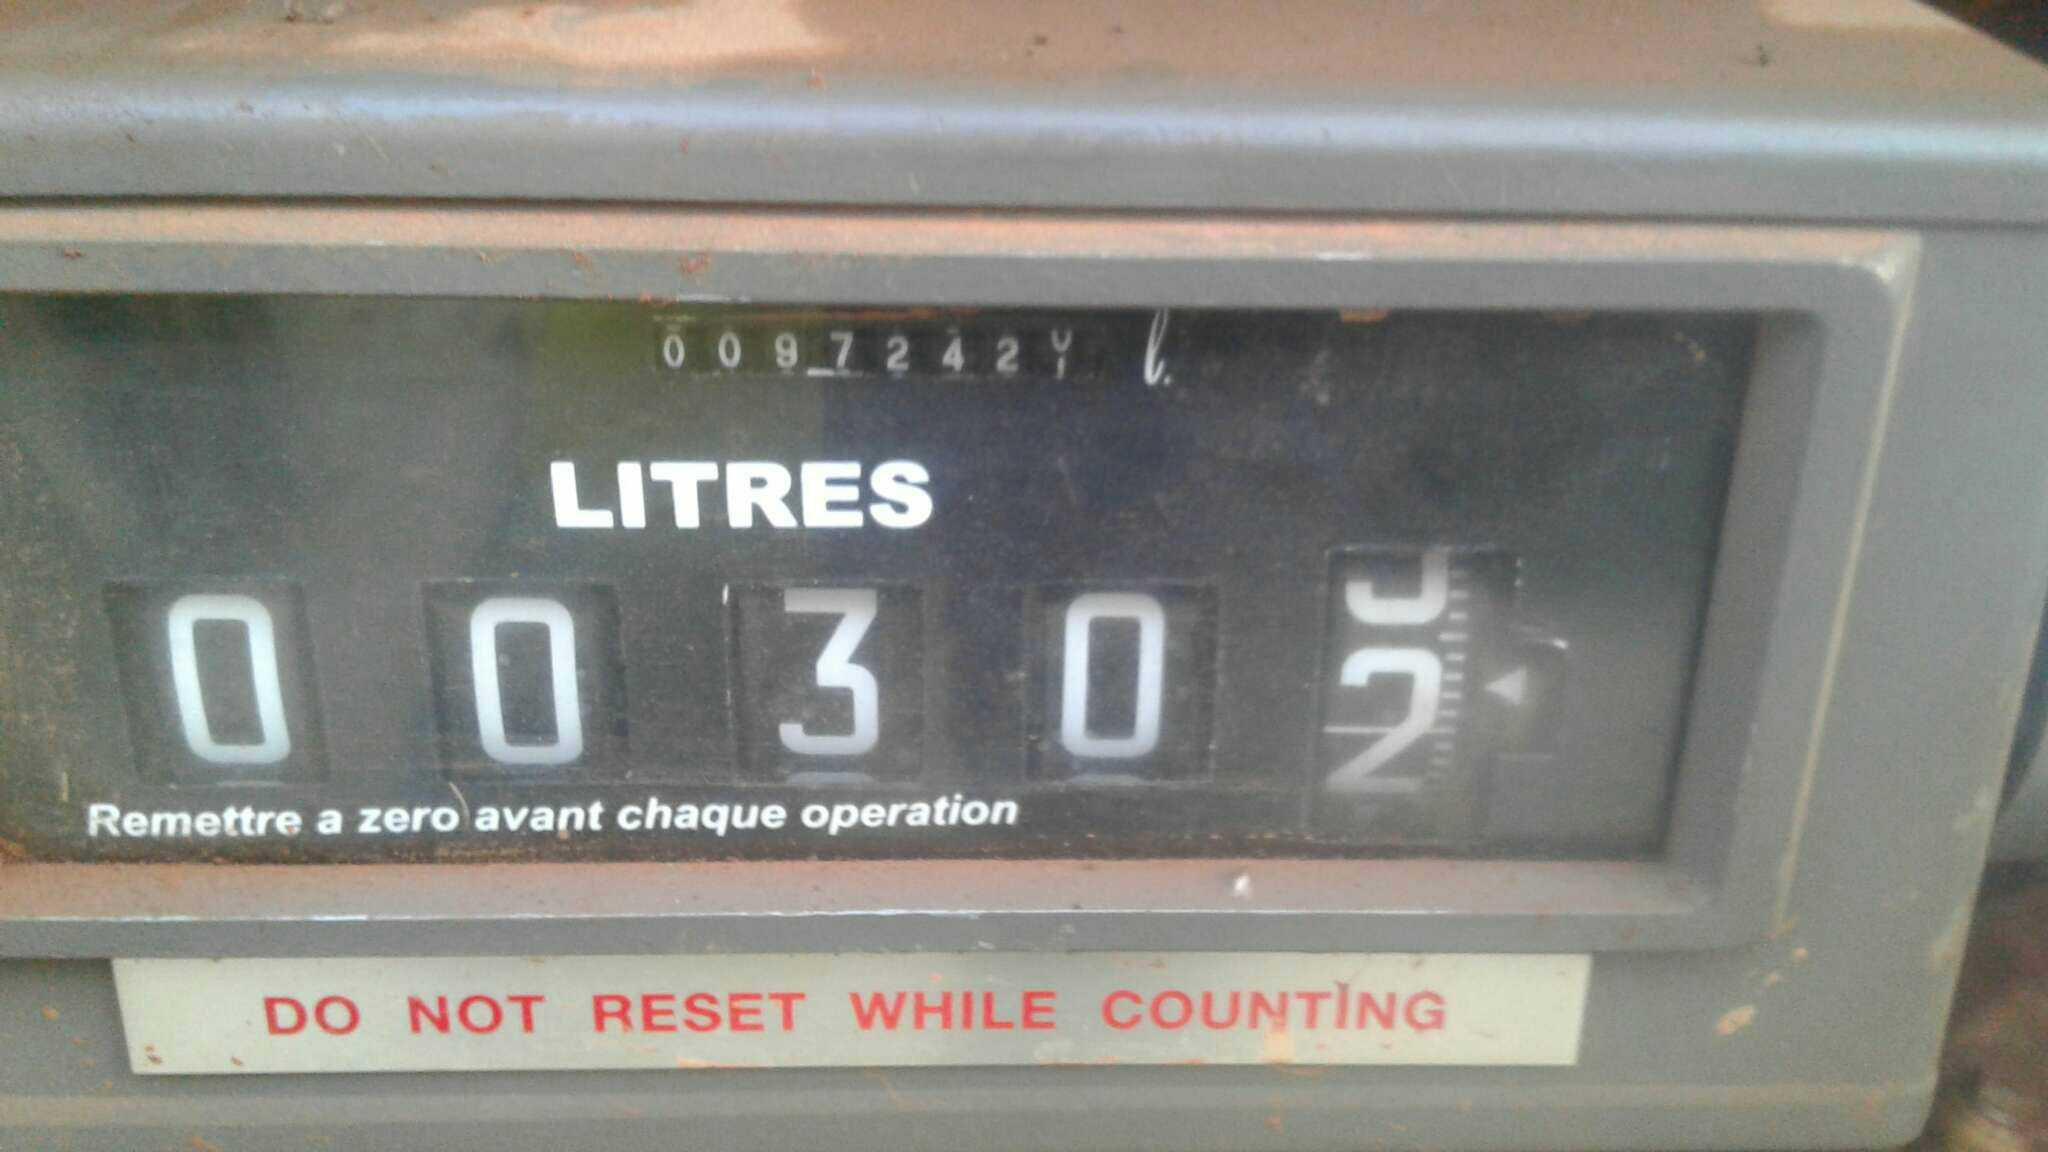0: (1038, 547, 1203, 786), (138, 584, 322, 781), (459, 578, 606, 786)
2: (1310, 630, 1492, 826)
3$: (729, 575, 900, 771)
